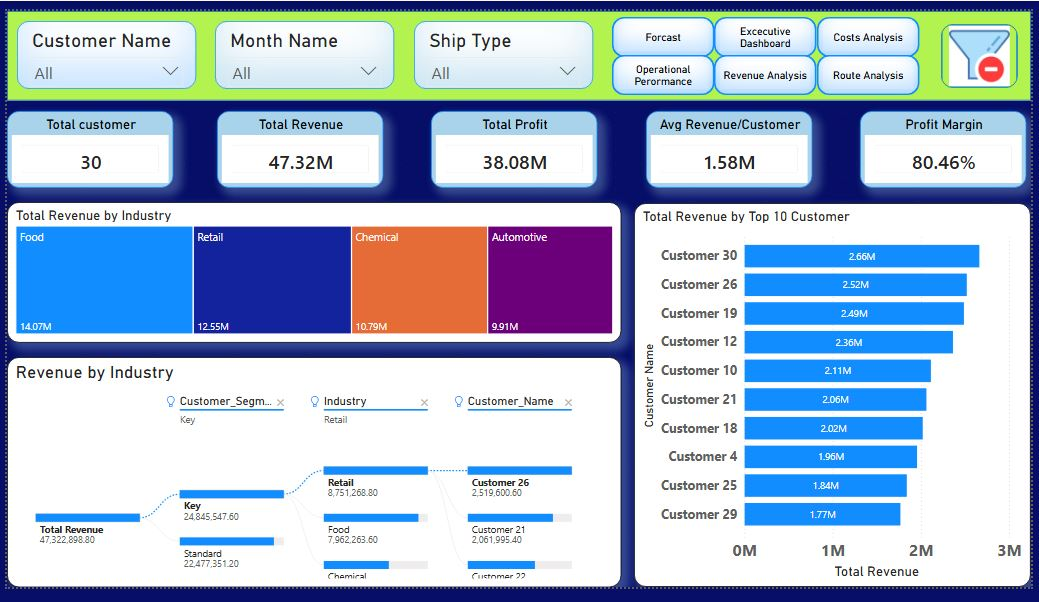

The page's visual inventory and layout, read from the dashboard file:
{"tool":"powerbi","page":{"name":"05 Customer Analysis","canvas":[1280,720],"ordinal":4},"visuals":[{"type":"shape","box":[0,0,1280,112],"z":0,"group":"g2"},{"type":"cardVisual","title":"Total customer","fields":{"Data":["Measure.M_Total Customers"]},"box":[0,125,208,96],"z":0},{"type":"image","box":[1168,16,96,80],"z":1000,"group":"g2"},{"type":"cardVisual","title":"Total Revenue","fields":{"Data":["Measure.M_Total Revenue"]},"box":[262.4,125,208,96],"z":1000},{"type":"slicer","fields":{"Values":["Dim_Ships.Ship_Type"]},"box":[508.5,12.5,224,85],"z":2000,"group":"g2"},{"type":"cardVisual","title":"Total Profit","fields":{"Data":["Measure.M_Profit"]},"box":[530.4,125,208,96],"z":2000},{"type":"slicer","fields":{"Values":["Calender.Month_Name"]},"box":[260.5,12.5,224,85],"z":3000,"group":"g2"},{"type":"cardVisual","title":"Avg Revenue/Customer","fields":{"Data":["Measure.M_Average Revenue per Customer"]},"box":[798.4,125,208,96],"z":3000},{"type":"slicer","fields":{"Values":["Dim_Customers.Customer_Name"]},"box":[12.5,12.5,224,85],"z":4000,"group":"g2"},{"type":"cardVisual","title":"Profit Margin","fields":{"Data":["Measure.M_Profit Margin"]},"box":[1066.4,125,208,96],"z":4000},{"type":"shape","box":[756.2,7.5,128,50],"z":5000,"group":"g2"},{"type":"barChart","title":"Total Revenue by Top 10 Customer","fields":{"Category":["Dim_Customers.Customer_Name"],"Y":["Measure.M_Total Revenue"]},"box":[784,240,496,480],"z":5000},{"type":"shape","box":[884.2,7.5,128,50],"z":6000,"group":"g2"},{"type":"treemap","fields":{"Values":["Measure.M_Total Revenue"],"Group":["Dim_Customers.Industry"]},"box":[0,238.5,768,176],"z":6000},{"type":"shape","box":[1012.2,7.5,128,50],"z":7000,"group":"g2"},{"type":"decompositionTreeVisual","title":"Revenue by Industry","fields":{"Analyze":["Measure.M_Total Revenue"],"ExplainBy":["Dim_Customers.Customer_Segment","Dim_Customers.Industry","Dim_Customers.Customer_Name"]},"box":[0,432,768,288],"z":7000},{"type":"group","id":"g1","title":"Group 1","box":[0,0,1280,112],"z":8000},{"type":"shape","box":[756.2,55.5,128,50],"z":8000,"group":"g2"},{"type":"shape","box":[884.2,55.5,128,50],"z":9000,"group":"g2"},{"type":"shape","box":[1012.2,55.5,128,50],"z":10000,"group":"g2"},{"type":"group","id":"g2","title":"Group 2","box":[0,0,1280,112],"z":11001,"group":"g1"}]}

Visuals, with their boxes in screenshot pixels (x1, y1, x2, y2), scaled from the page's 1280x720 canvas onto the 1039x602 screenshot:
shape: [0, 0, 1038, 94]
"Total customer" cardVisual: [0, 105, 169, 185]
image: [948, 13, 1026, 80]
"Total Revenue" cardVisual: [213, 105, 382, 185]
slicer - Dim_Ships.Ship_Type: [413, 10, 595, 82]
"Total Profit" cardVisual: [431, 105, 599, 185]
slicer - Calender.Month_Name: [211, 10, 393, 82]
"Avg Revenue/Customer" cardVisual: [648, 105, 817, 185]
slicer - Dim_Customers.Customer_Name: [10, 10, 192, 82]
"Profit Margin" cardVisual: [866, 105, 1034, 185]
shape: [614, 6, 718, 48]
"Total Revenue by Top 10 Customer" barChart: [636, 201, 1038, 601]
shape: [718, 6, 822, 48]
treemap - Measure.M_Total Revenue x Dim_Customers.Industry: [0, 199, 623, 347]
shape: [822, 6, 926, 48]
"Revenue by Industry" decompositionTreeVisual: [0, 361, 623, 601]
"Group 1" group: [0, 0, 1038, 94]
shape: [614, 46, 718, 88]
shape: [718, 46, 822, 88]
shape: [822, 46, 926, 88]
"Group 2" group: [0, 0, 1038, 94]
